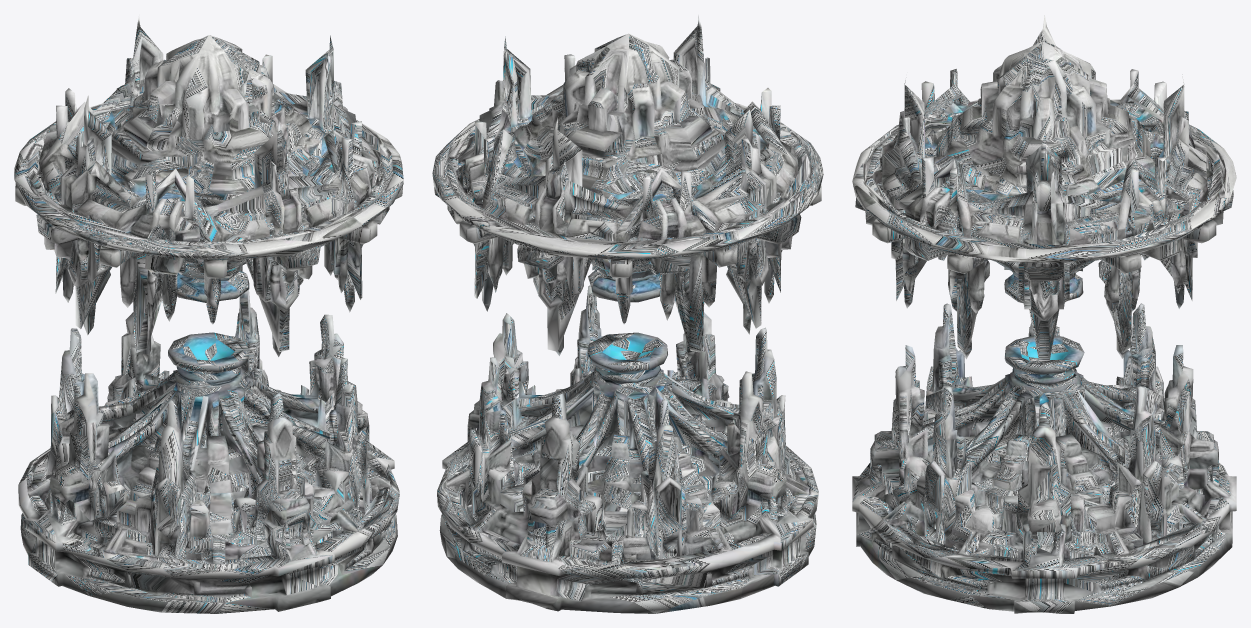
Rendered from Blue_Core_Citadel.glb.
The picture shows the model from 3 angles, left to right: view 1: azimuth 30°, elevation 25°; view 2: azimuth 150°, elevation 25°; view 3: azimuth 270°, elevation 25°; orthographic projection.
Visible parts, largest first — view 1: Blue_Core_Citadel; view 2: Blue_Core_Citadel; view 3: Blue_Core_Citadel.
Boxes of the visible parts, left/top/right/bottom form: Blue_Core_Citadel: left=14, top=14, right=403, bottom=613; Blue_Core_Citadel: left=432, top=15, right=823, bottom=613; Blue_Core_Citadel: left=852, top=15, right=1236, bottom=613.
Size of the model in its own units: 1.34 by 1.9 by 1.34.
1 material, 1 textured.
